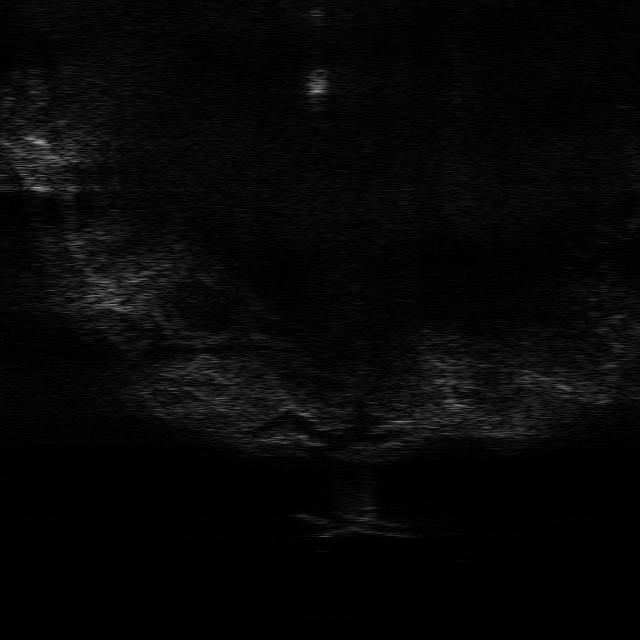plane: (294, 505, 415, 541)
